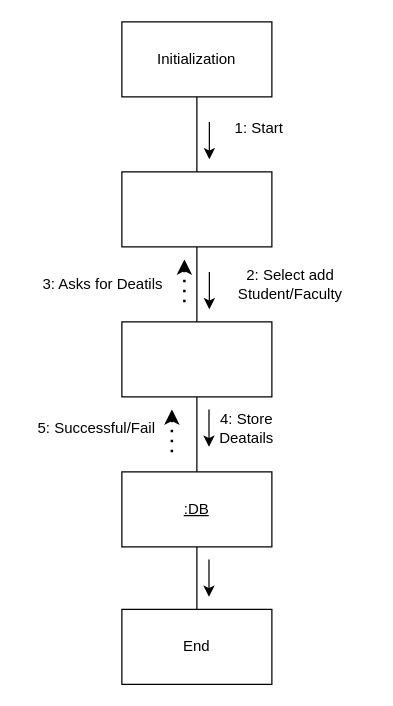
This 393x706 diagram has some shape labels left out. Here are the shapes that lost their labels. From the top down, the box of each, then its label:
(121, 171, 272, 247): :Admin
(121, 321, 272, 397): :System
